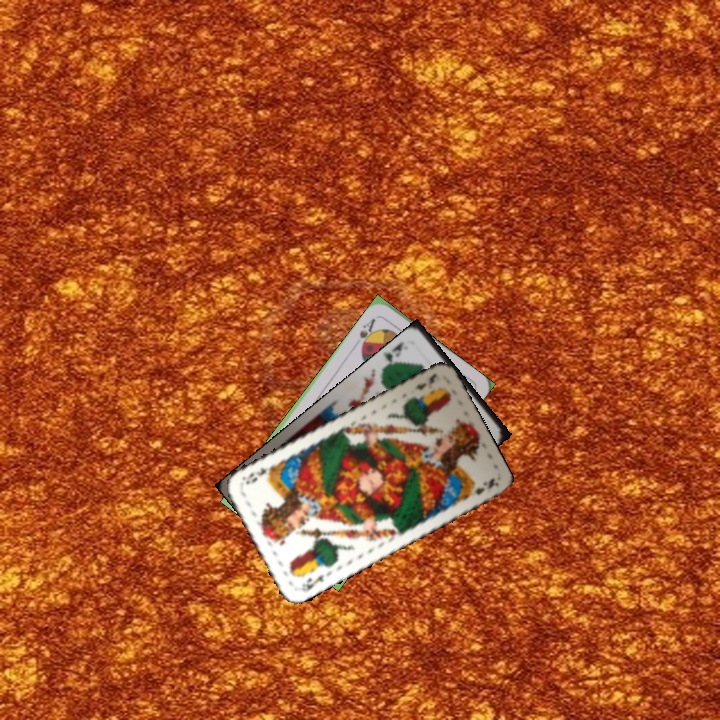EK: (411, 369, 439, 393), (298, 570, 326, 594)
GK: (381, 337, 406, 369)
SA: (355, 314, 379, 351)
